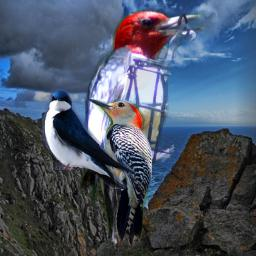Swallow: (42, 88, 135, 189)
Woodpecker: (80, 8, 207, 255), (76, 99, 152, 246)
